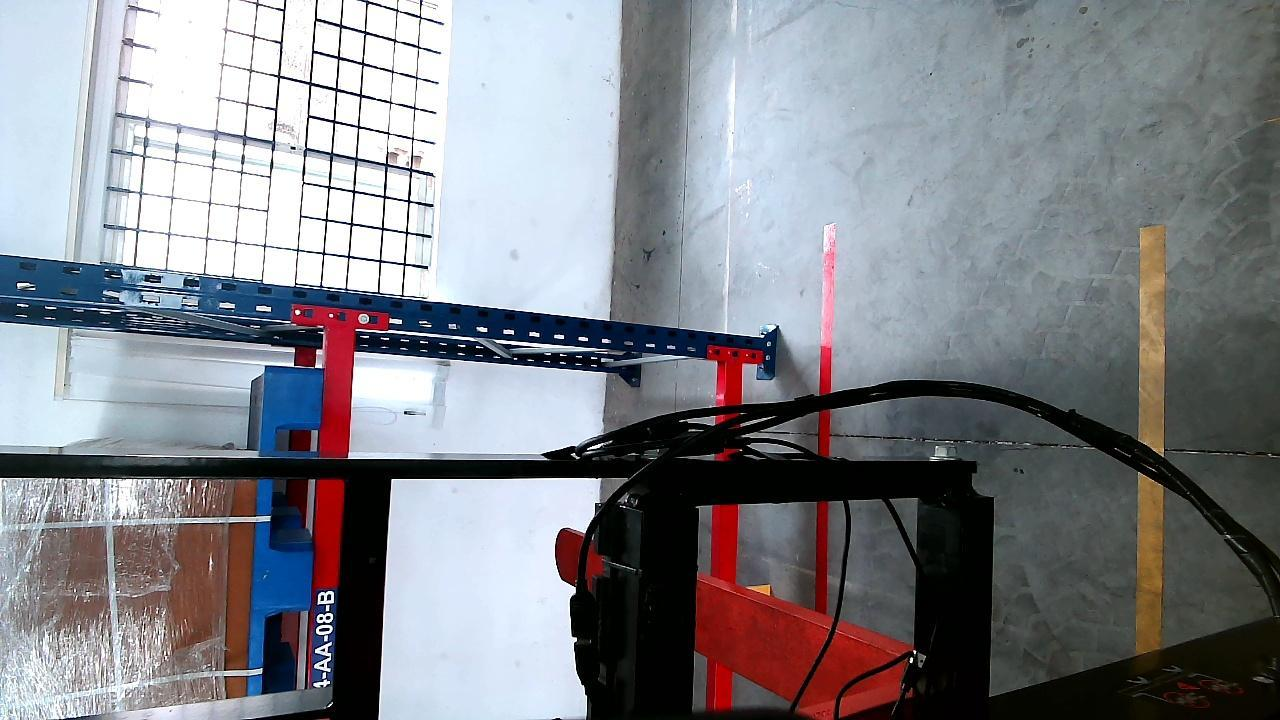red_line: (812, 231, 840, 611)
yellow_line: (1137, 211, 1167, 682)
